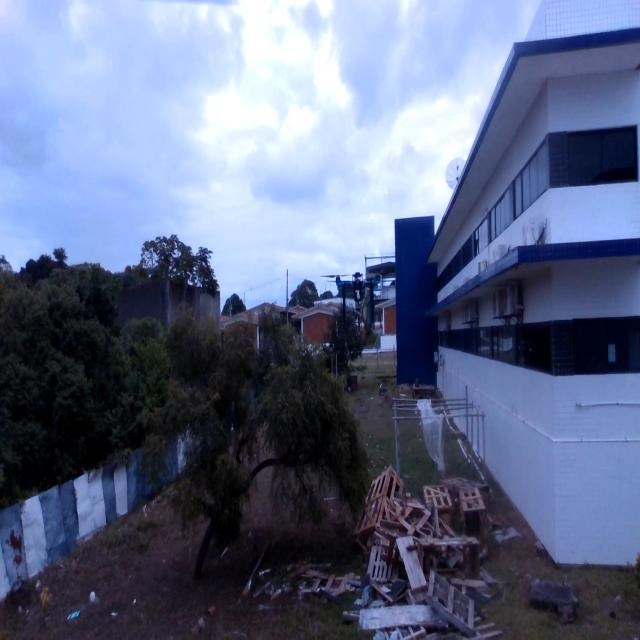-uav-: (318, 259, 385, 338)
